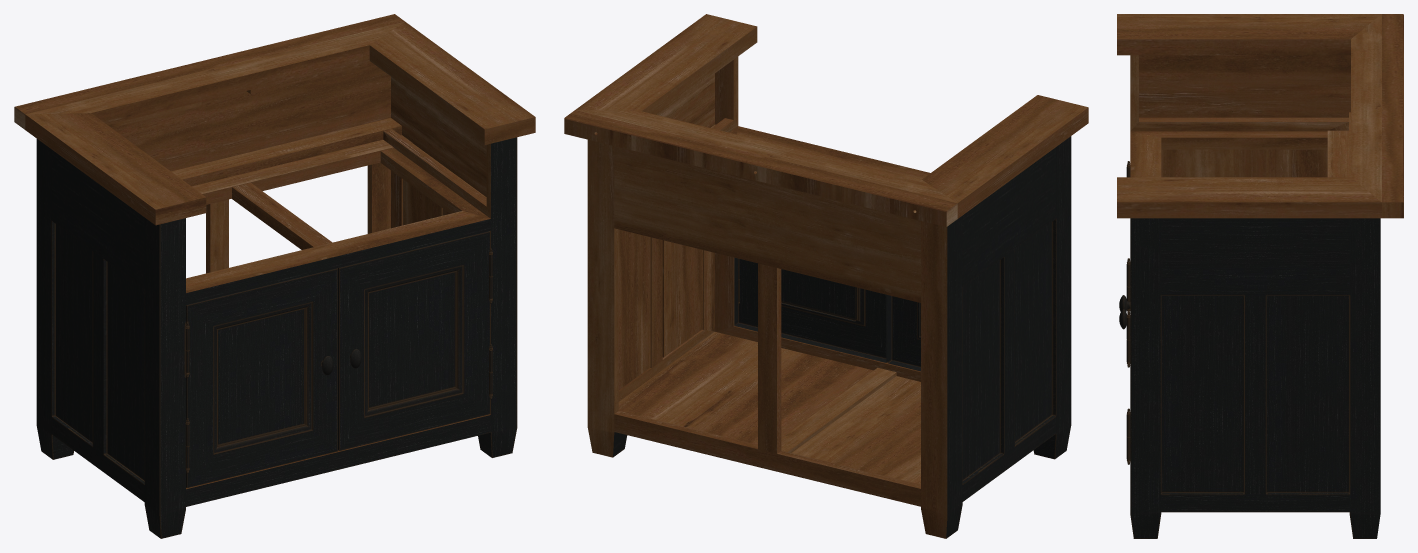
The model's file is example63.gltf.
3 renders of one model, left to right at view 1: azimuth 30°, elevation 25°; view 2: azimuth 150°, elevation 25°; view 3: azimuth 270°, elevation 25°, orthographic.
Bounding box in the file's own units: 101 × 86 × 65.
2 materials, 2 textured.
